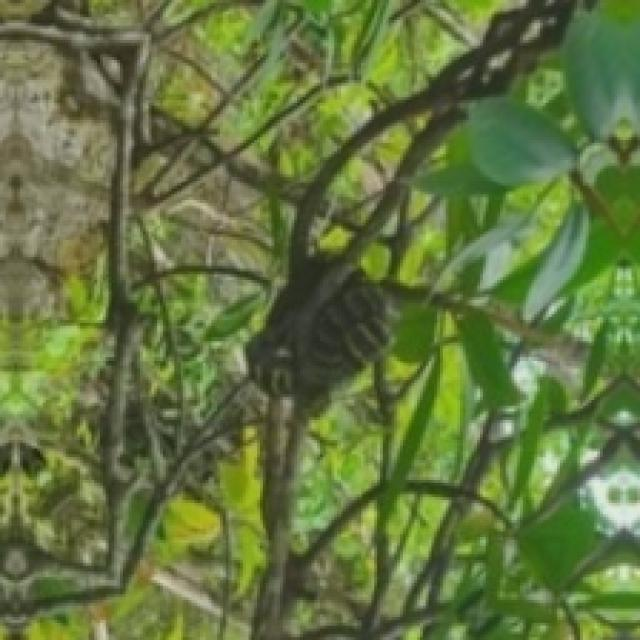mangrove cat snake: (246, 263, 386, 406)
